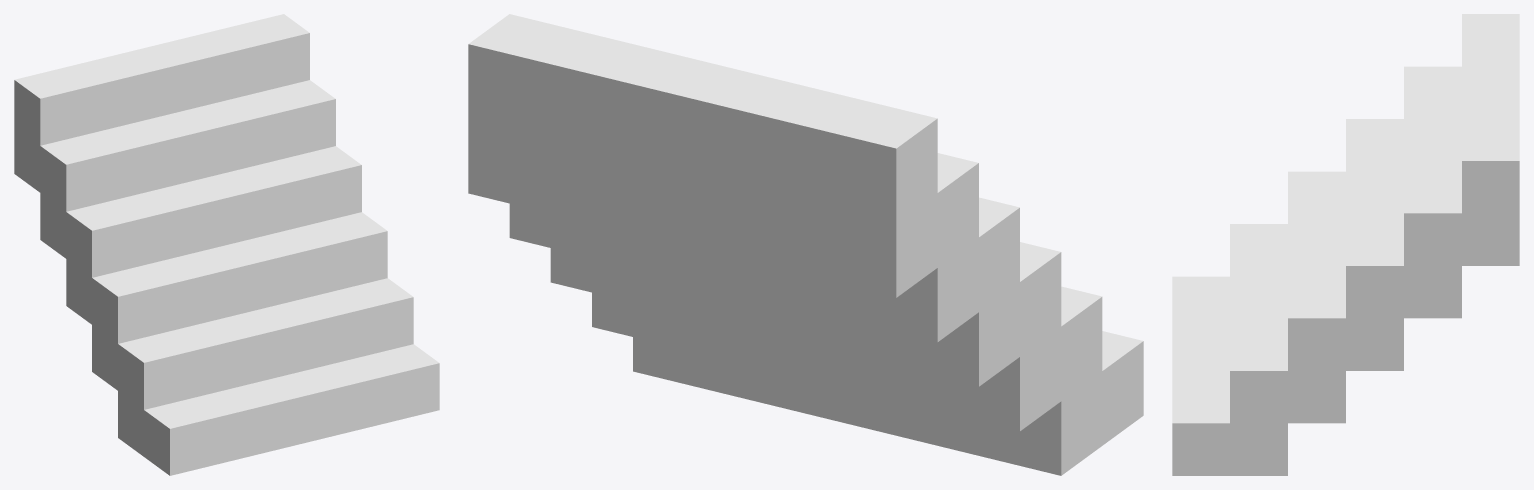
File: StairsV1.fbx
3 views of the same model, side by side, from view 1: azimuth 30°, elevation 25°; view 2: azimuth 150°, elevation 25°; view 3: azimuth 270°, elevation 25° (orthographic). The views are drawn at different scales.
Parts seen in each view (by area): view 1: StairsV1; view 2: StairsV1; view 3: StairsV1.
Boxes of the visible parts, <box> form: StairsV1: <box>14,14,439,475</box>; StairsV1: <box>468,14,1143,475</box>; StairsV1: <box>1172,14,1519,475</box>.
Size of the model in its own units: 100 by 100 by 100.
